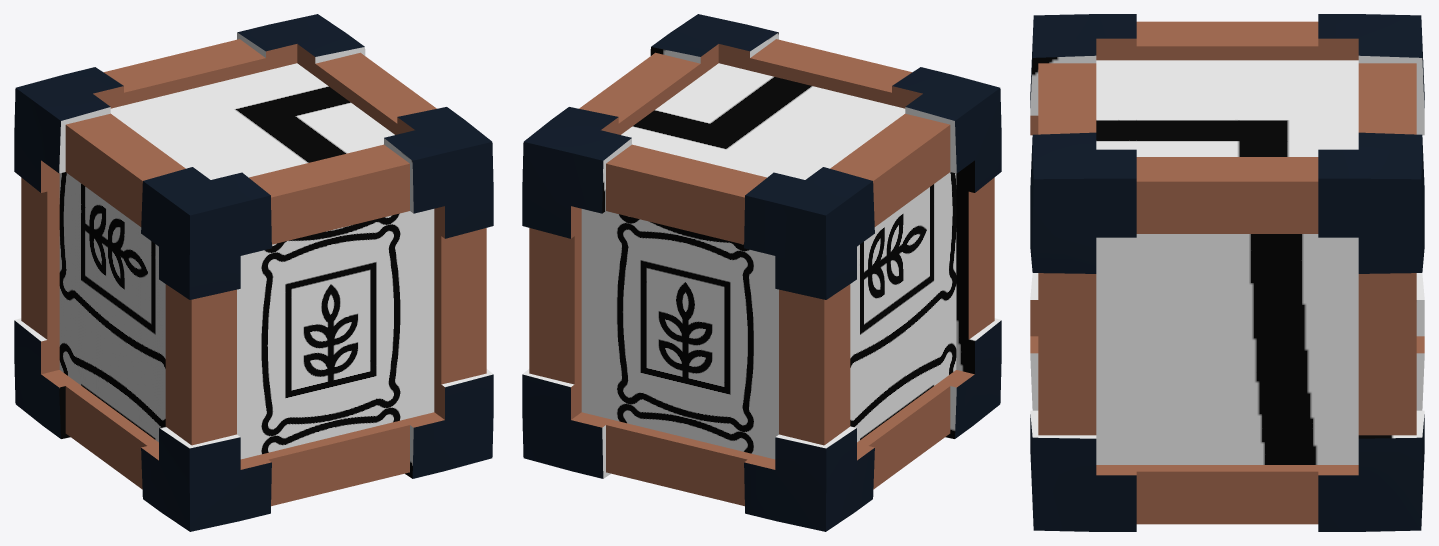
File: crate_seed.gltf
3 renders of one model, left to right at view 1: azimuth 30°, elevation 25°; view 2: azimuth 150°, elevation 25°; view 3: azimuth 270°, elevation 25°, orthographic. The views are drawn at different scales.
Parts seen in each view (by area): view 1: crate2.003; view 2: crate2.003; view 3: crate2.003.
Boxes of the visible parts, left/top/right/bottom form: crate2.003: left=14, top=14, right=493, bottom=531; crate2.003: left=522, top=14, right=1001, bottom=531; crate2.003: left=1030, top=14, right=1424, bottom=531.
Bounding box in the file's own units: 2 × 2 × 2.
Materials: 3 (1 with a texture image).
